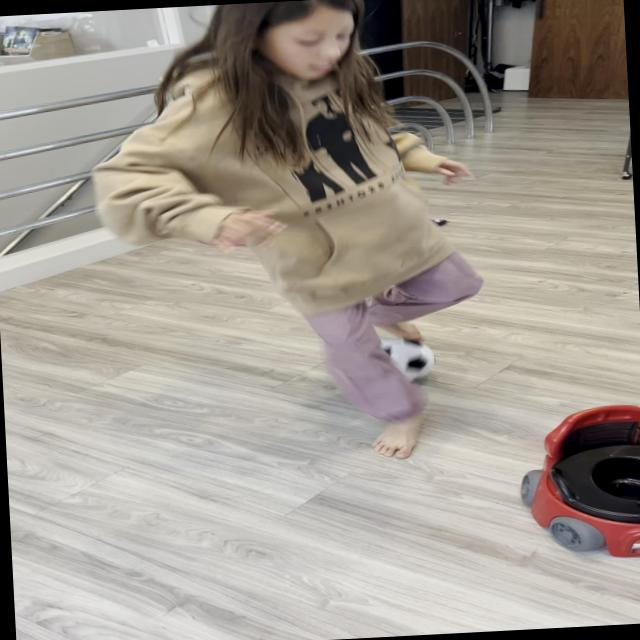Soccer Ball: (356, 336, 437, 386)
